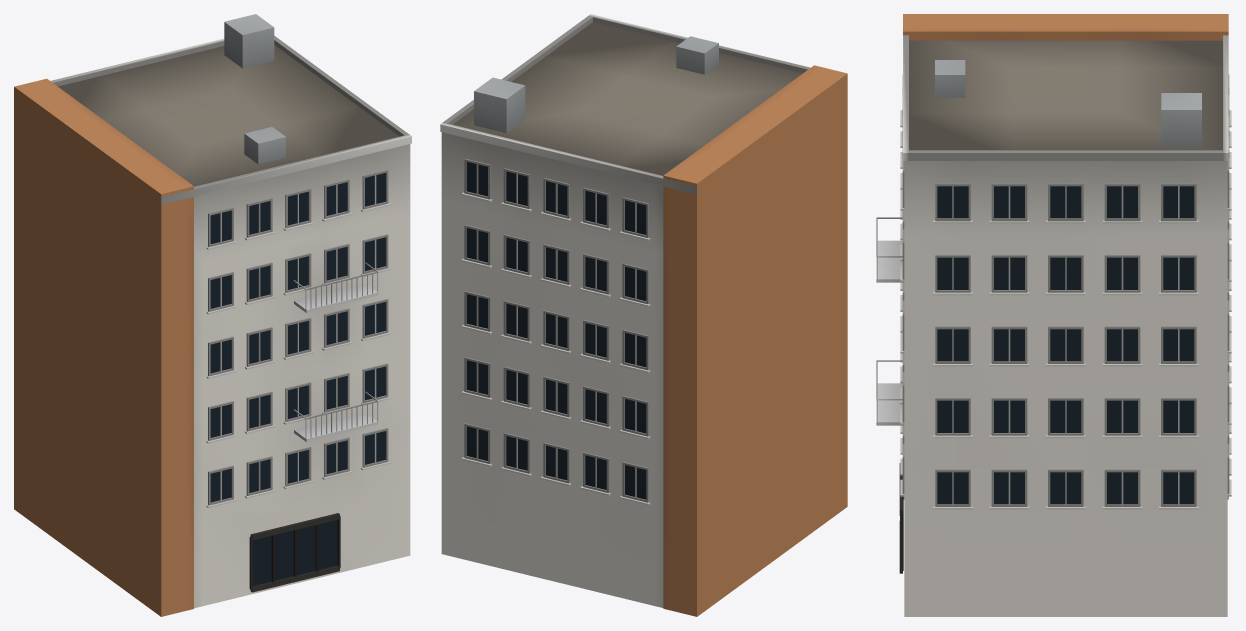
File: torre-departamentos-B7q__UDh.glb
3 renders of one model, left to right at view 1: azimuth 30°, elevation 25°; view 2: azimuth 150°, elevation 25°; view 3: azimuth 270°, elevation 25°, orthographic. The views are drawn at different scales.
Visible parts, largest first — view 1: pieza.006, pieza, pieza.001, pieza.007, pieza.002, pieza.054, pieza.003, pieza.005, pieza.053, pieza.015, pieza.034, pieza.014 (+26 smaller); view 2: pieza.006, pieza, pieza.001, pieza.003, pieza.054, pieza.002, pieza.053, pieza.005, ventana.371, ventana.378, ventana.462, ventana.035 (+21 smaller); view 3: pieza, pieza.001, pieza.006, pieza.005, pieza.054, pieza.053, pieza.015, pieza.034, ventana.070, ventana.175, ventana.280, ventana.385 (+23 smaller).
Part boxes in pixels (x1,y1,x2,y2): pieza.006: (14, 78, 193, 616); pieza: (194, 144, 410, 608); pieza.001: (58, 45, 399, 186); pieza.007: (253, 520, 337, 585); pieza.002: (161, 134, 411, 204); pieza.054: (224, 14, 274, 68); pieza.003: (50, 38, 224, 86); pieza.005: (274, 36, 408, 136); pieza.053: (244, 127, 285, 164); pieza.015: (294, 412, 378, 442); pieza.034: (294, 283, 378, 312); pieza.014: (250, 513, 339, 540); pieza.006: (663, 65, 847, 616); pieza: (441, 132, 663, 607); pieza.001: (453, 22, 802, 175); pieza.003: (440, 122, 696, 194); pieza.054: (474, 77, 525, 133); pieza.002: (588, 14, 810, 73); pieza.053: (676, 36, 718, 74); pieza.005: (443, 16, 592, 124); ventana.371: (506, 237, 527, 272); ventana.378: (466, 228, 487, 262); ventana.462: (585, 190, 606, 225); ventana.035: (625, 465, 646, 499); pieza: (904, 161, 1227, 616); pieza.001: (909, 40, 1222, 150); pieza.006: (903, 14, 1228, 499); pieza.005: (909, 150, 1222, 160); pieza.054: (1161, 93, 1201, 146); pieza.053: (935, 60, 965, 97); pieza.015: (876, 383, 904, 425); pieza.034: (876, 240, 904, 282); ventana.070: (937, 472, 968, 504); ventana.175: (937, 400, 968, 432); ventana.280: (937, 329, 968, 361); ventana.385: (937, 257, 968, 289).
Bounding box in the file's own units: 12.71 × 21.52 × 13.96.
